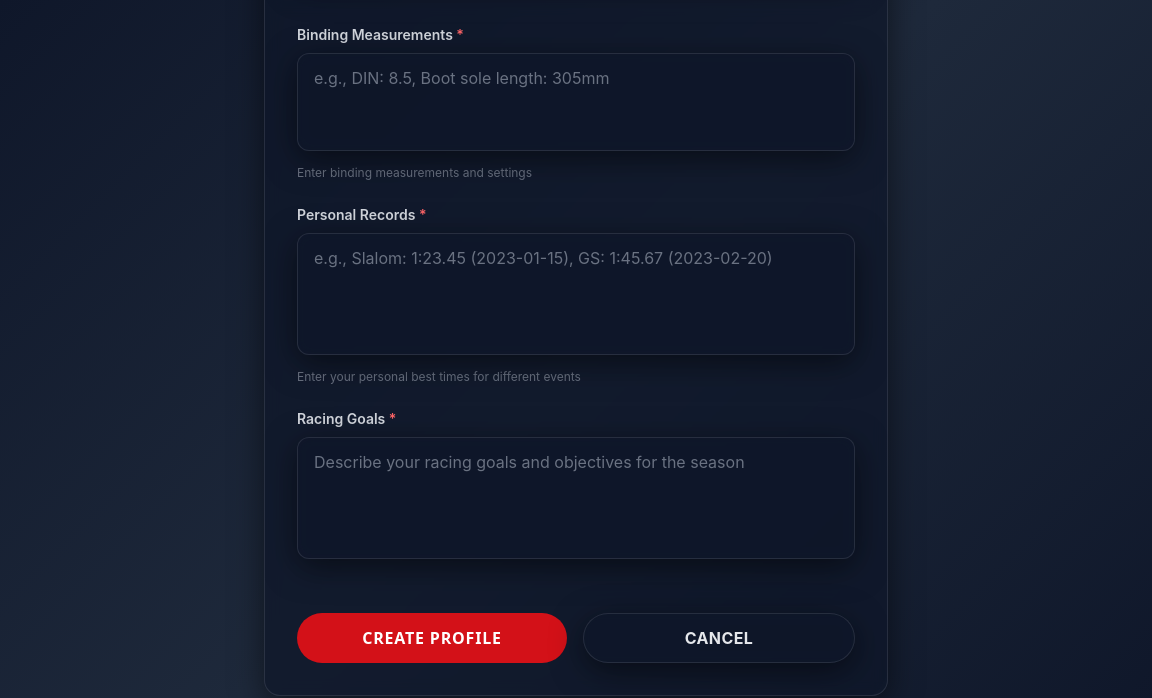
Scenario: ProfileForm › Validation › should show error when binding measurements is empty
(page scrolled)
Click the button "Create Profile". click: (432, 638)
box: [297,613,567,663]
(page scrolled)
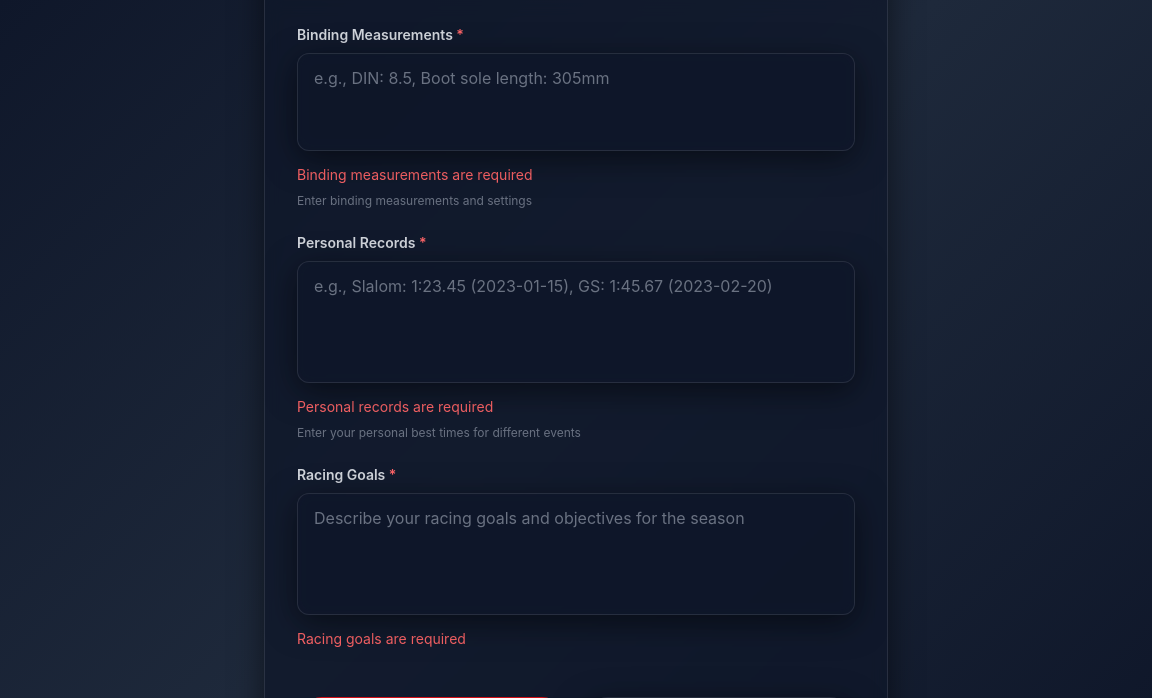
Result: the text "Binding measurements are required" is shown at [297,166,533,183]
